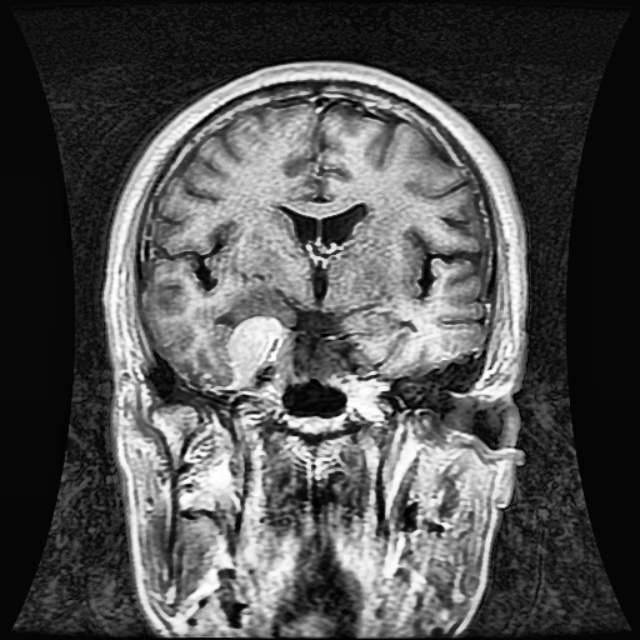Glioma: (227, 313, 292, 389)
